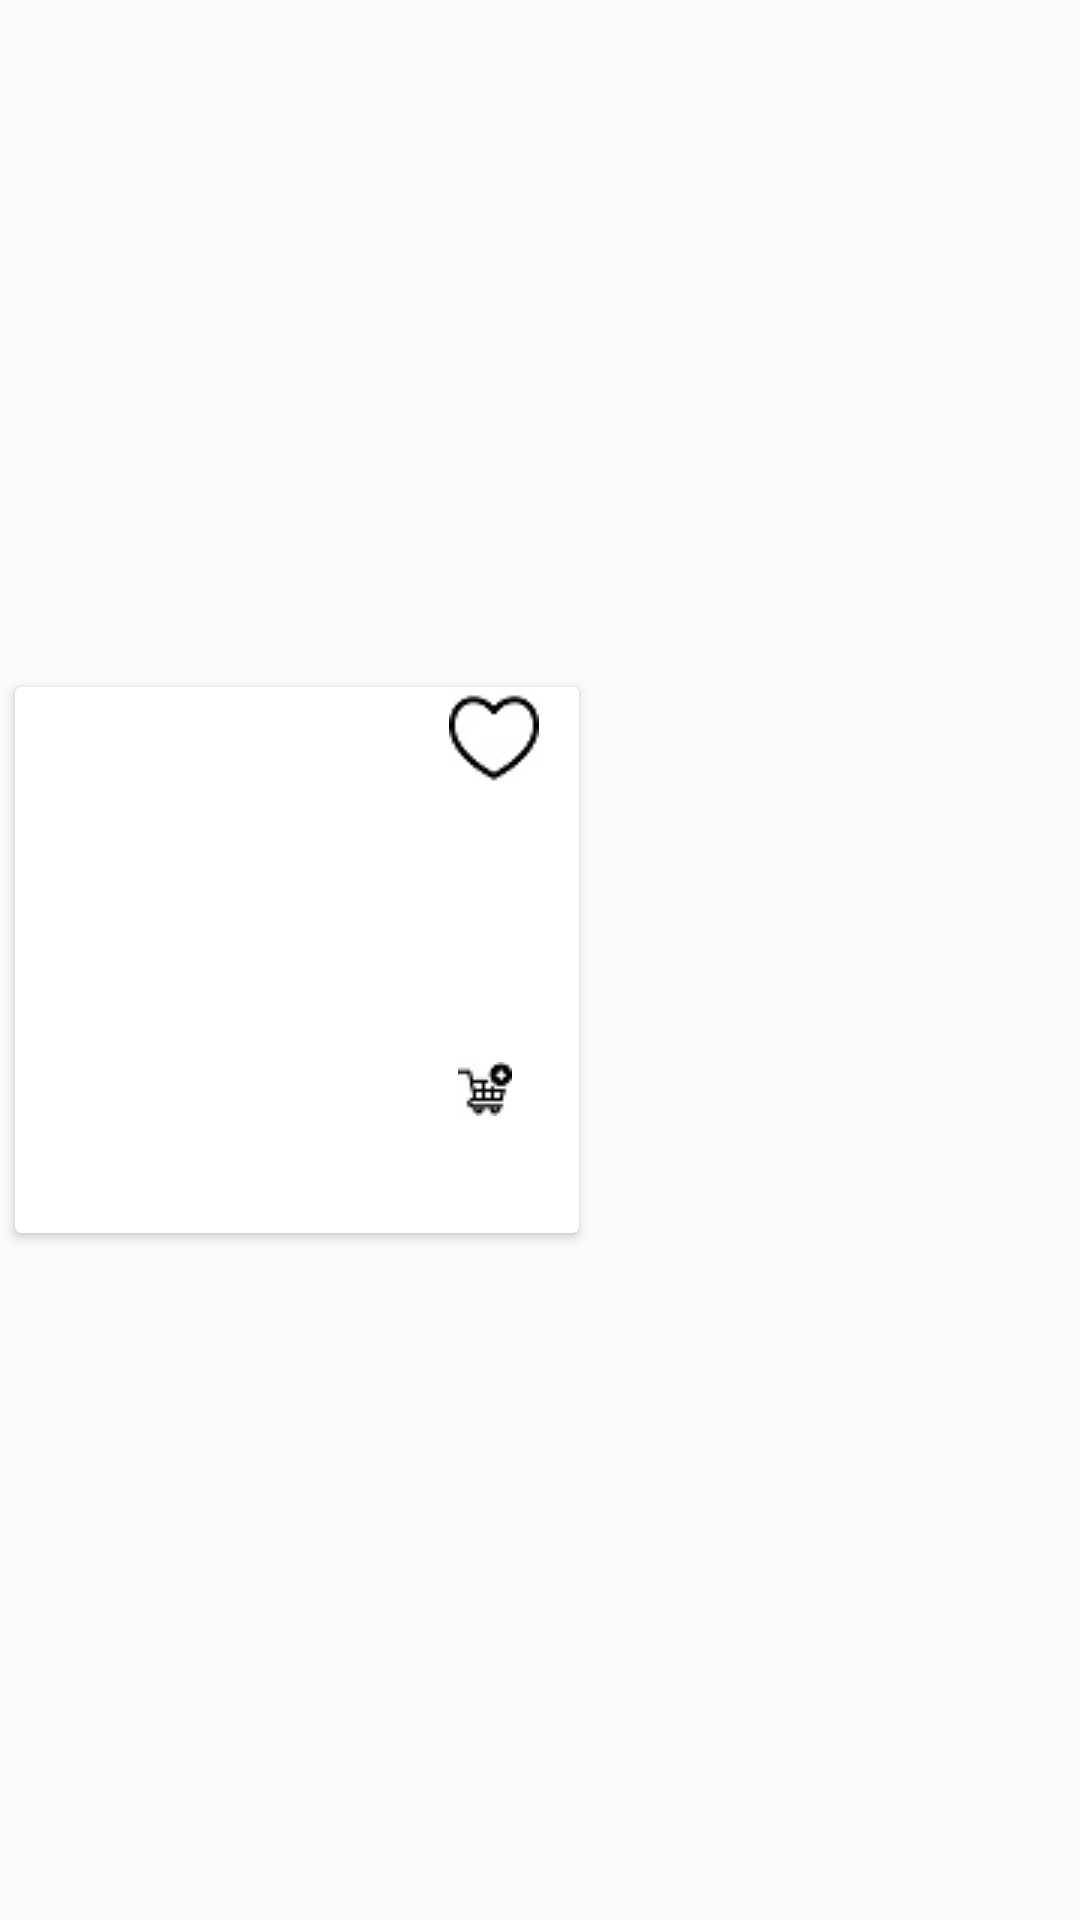

Icon click points for this 1080x1920 phone screenshot, format (x,y):
cart: (485,1089)
emptyheart: (494,738)
